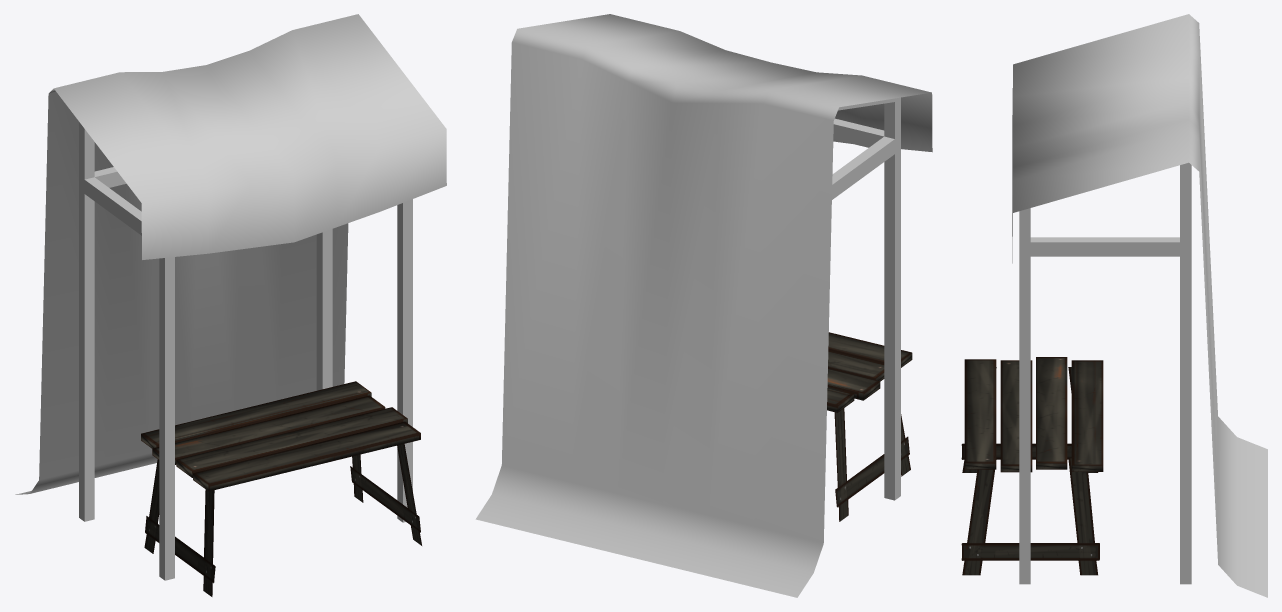
File: Stall2Model.fbx
The picture shows the model from 3 angles, left to right: view 1: azimuth 30°, elevation 25°; view 2: azimuth 150°, elevation 25°; view 3: azimuth 270°, elevation 25°; orthographic projection. The views are drawn at different scales.
Parts seen in each view (by area): view 1: Plane.009; view 2: Plane.009; view 3: Plane.009.
Part boxes in pixels (x1,y1,x2,y2): Plane.009: (15,14,446,596); Plane.009: (475,14,932,597); Plane.009: (961,14,1267,597).
Size of the model in its own units: 624 by 855 by 545.
